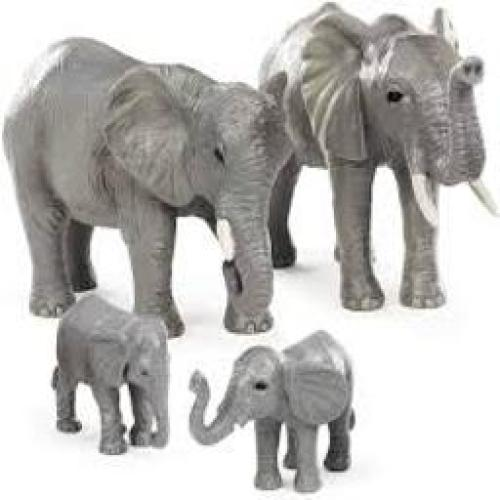african_elephant-endangered: (0, 37, 296, 336), (258, 6, 496, 315), (187, 329, 356, 492), (47, 289, 176, 455)
